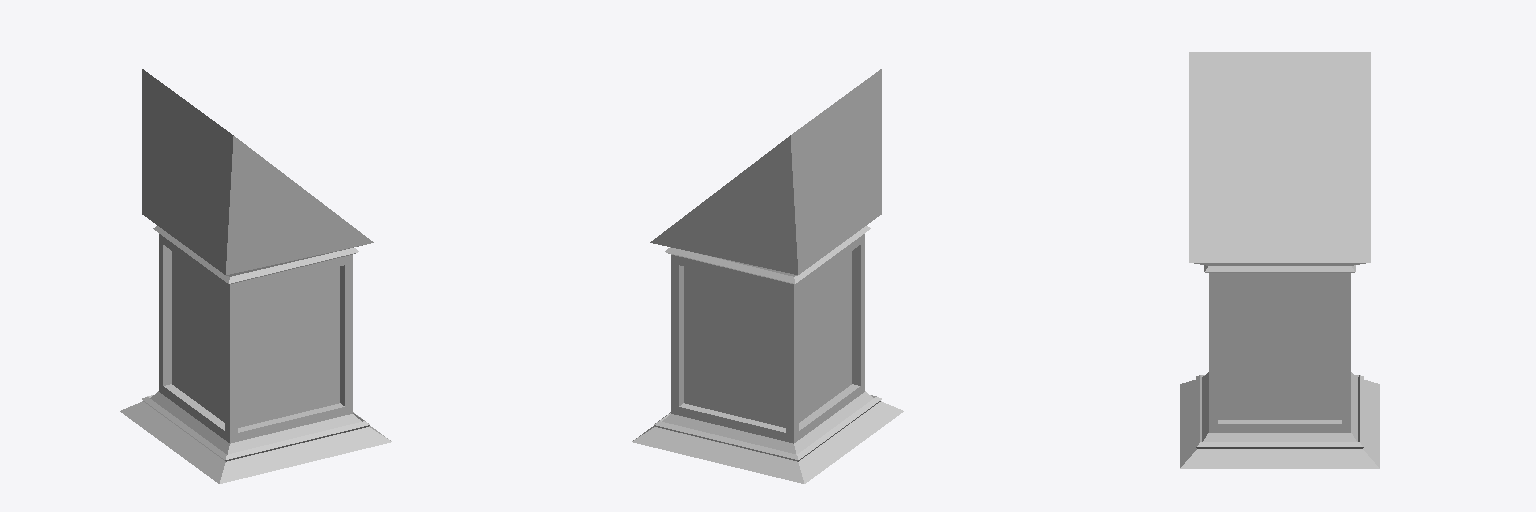
The model's file is WoodLectern.obj.
The picture shows the model from 3 angles: view 1: azimuth 30°, elevation 25°; view 2: azimuth 150°, elevation 25°; view 3: azimuth 270°, elevation 25°; orthographic projection.
Parts seen in each view (by area): view 1: Cube; view 2: Cube; view 3: Cube.
Part boxes in pixels (left/top/right/bottom): Cube: left=120, top=69, right=391, bottom=483; Cube: left=632, top=69, right=903, bottom=483; Cube: left=1180, top=52, right=1379, bottom=468.
Bounding box in the file's own units: 1.03 × 1.94 × 1.03.